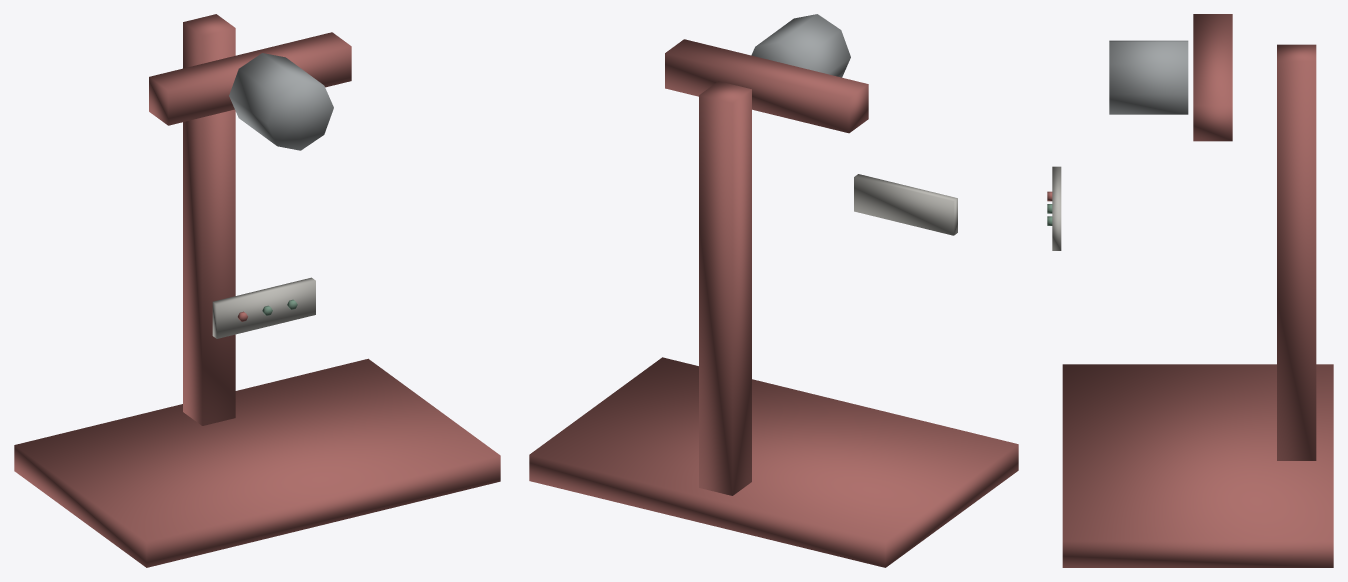
File: engine_stand.glb
3 views of the same model, side by side, from view 1: azimuth 30°, elevation 25°; view 2: azimuth 150°, elevation 25°; view 3: azimuth 270°, elevation 25° (orthographic). The views are drawn at different scales.
Visible parts, largest first — view 1: world; view 2: world; view 3: world.
Part boxes in pixels (<box>): world: <box>14,14,500,567</box>; world: <box>529,14,1018,567</box>; world: <box>1047,14,1333,567</box>.
Bounding box in the file's own units: 0.85 × 0.98 × 0.581.
